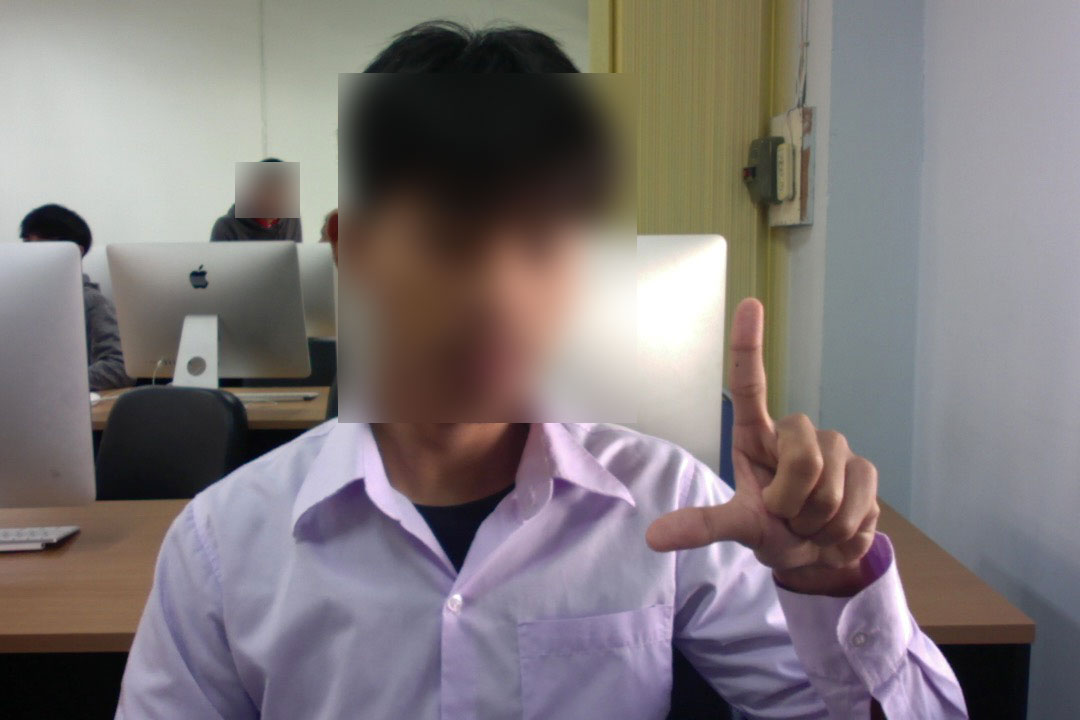lor: (600, 288, 900, 581), (617, 289, 900, 577)
